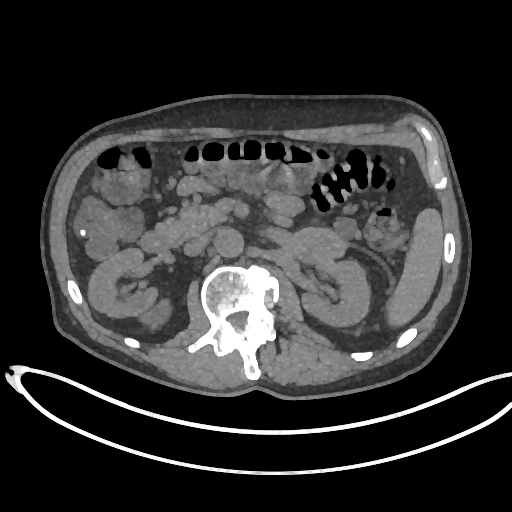Lesion: (291, 225, 345, 262)
